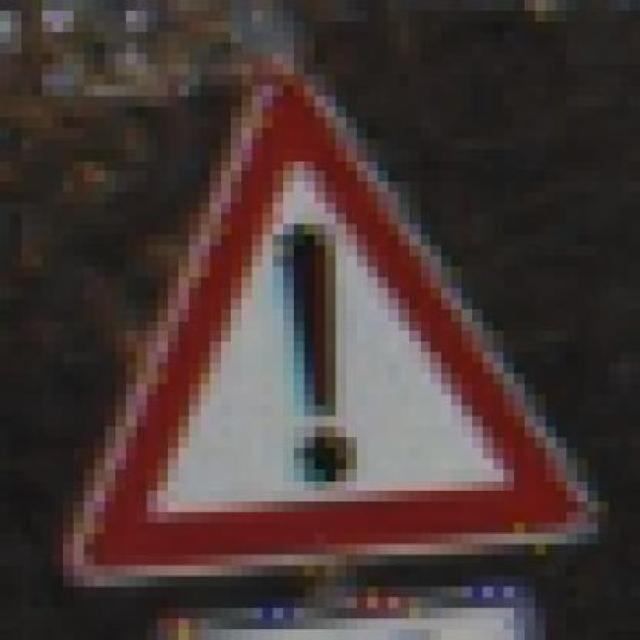Attention Please-: (73, 64, 598, 587)
